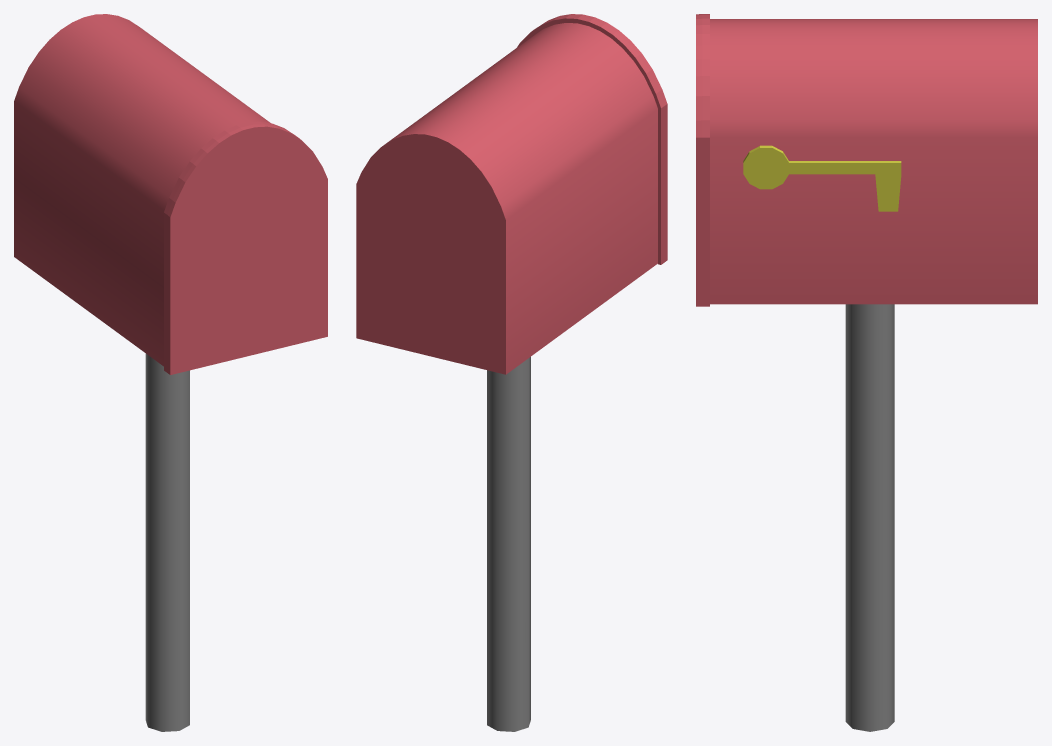
The model's file is 030-how_to_vote.glb.
3 views of the same model, side by side, from view 1: azimuth 30°, elevation 25°; view 2: azimuth 150°, elevation 25°; view 3: azimuth 270°, elevation 25° (orthographic). The views are drawn at different scales.
Visible parts, largest first — view 1: EVT.Mailbox, EVT.Mailbox.Lid; view 2: EVT.Mailbox, EVT.Mailbox.Lid; view 3: EVT.Mailbox, EVT.Mailbox.Flag, EVT.Mailbox.Lid.
Boxes of the visible parts, x1,y1,x2,y2 form: EVT.Mailbox: [14, 14, 270, 731]; EVT.Mailbox.Lid: [164, 121, 327, 374]; EVT.Mailbox: [356, 23, 657, 731]; EVT.Mailbox.Lid: [517, 14, 667, 264]; EVT.Mailbox: [710, 19, 1037, 731]; EVT.Mailbox.Flag: [743, 145, 901, 211]; EVT.Mailbox.Lid: [696, 14, 709, 306].
Size of what is drawn, in the model's own units: 0.394 by 1.55 by 0.6858.
